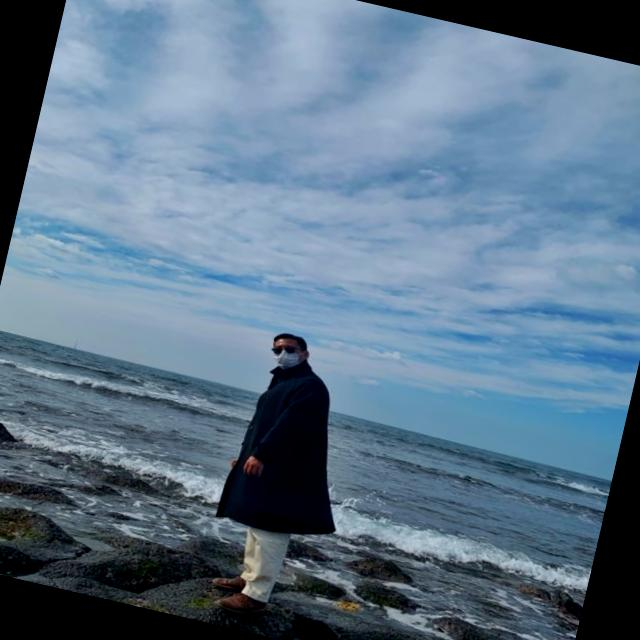coat: (217, 354, 367, 544)
cottonpants: (228, 518, 289, 604)
